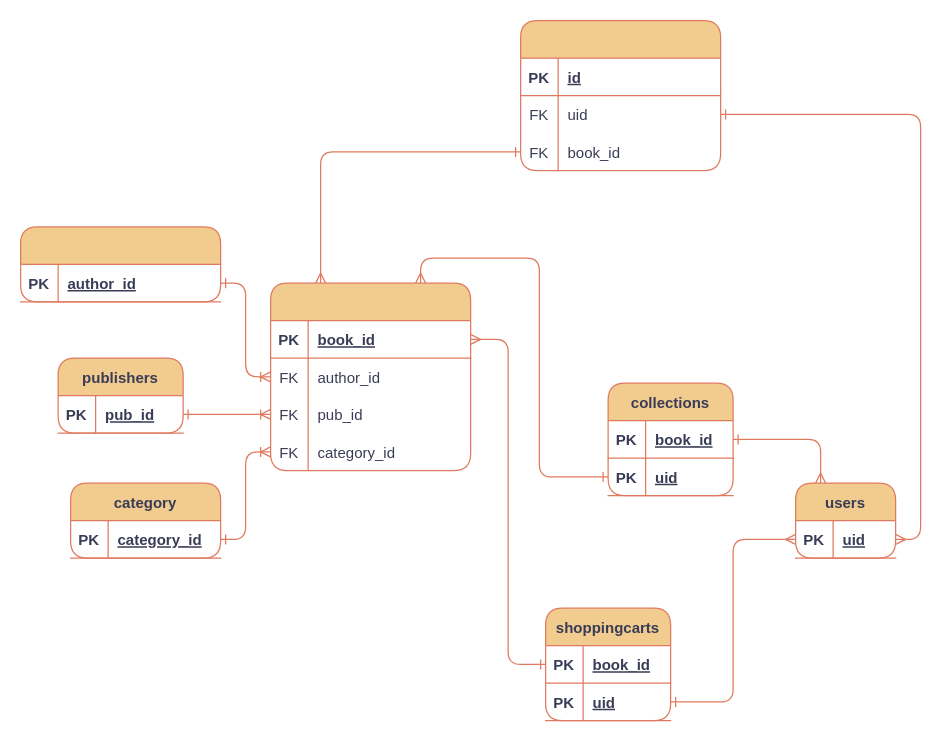
Image size: 941x741. Some labels were removed from this diagram. The shapes that lost their labels are listed below. From the top down, each one's box as (x1, y1, x2, y2) in pixels, then its label:
(519, 19, 721, 171): shoppinghistory
(19, 226, 221, 302): authors
(269, 282, 471, 471): books
